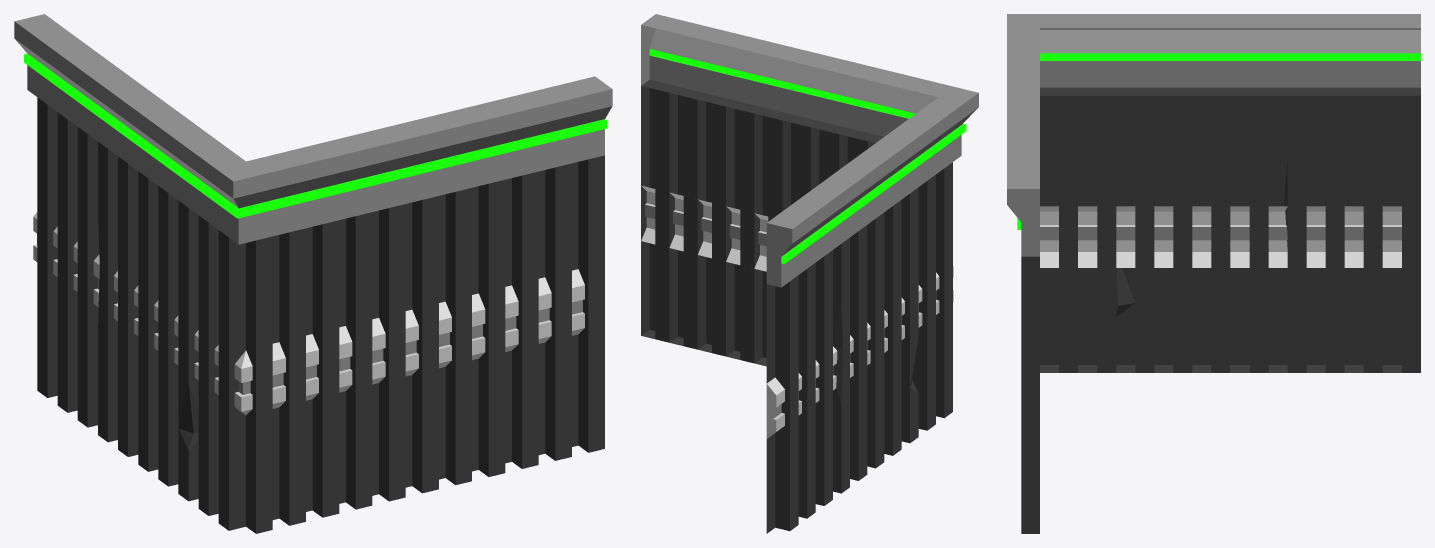
File: Wall_23_Corner.FBX
3 views of the same model, side by side, from view 1: azimuth 30°, elevation 25°; view 2: azimuth 150°, elevation 25°; view 3: azimuth 270°, elevation 25° (orthographic). The views are drawn at different scales.
Visible parts, largest first — view 1: Wall_23_Corner_LOD0; view 2: Wall_23_Corner_LOD0; view 3: Wall_23_Corner_LOD0.
Part boxes in pixels (x1,y1,x2,y2): Wall_23_Corner_LOD0: (14,14,612,533); Wall_23_Corner_LOD0: (641,14,978,533); Wall_23_Corner_LOD0: (1007,14,1420,533).
Size of what is drawn, in the model's own units: 196 by 180 by 196.
